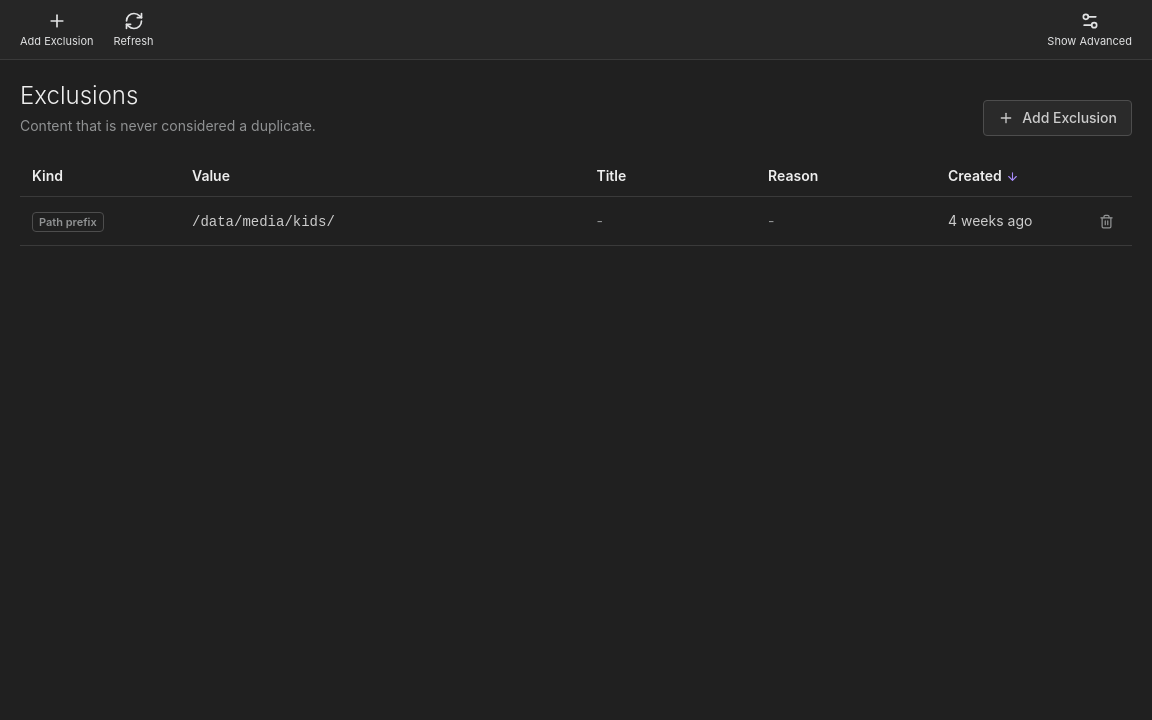
Scenario: <ExclusionsPage> › deletes an exclusion after confirmation
Step 1. Click the button named "Delete exclusion /data/media/kids/" → (1106, 221), box 1092,207 -> 1120,235
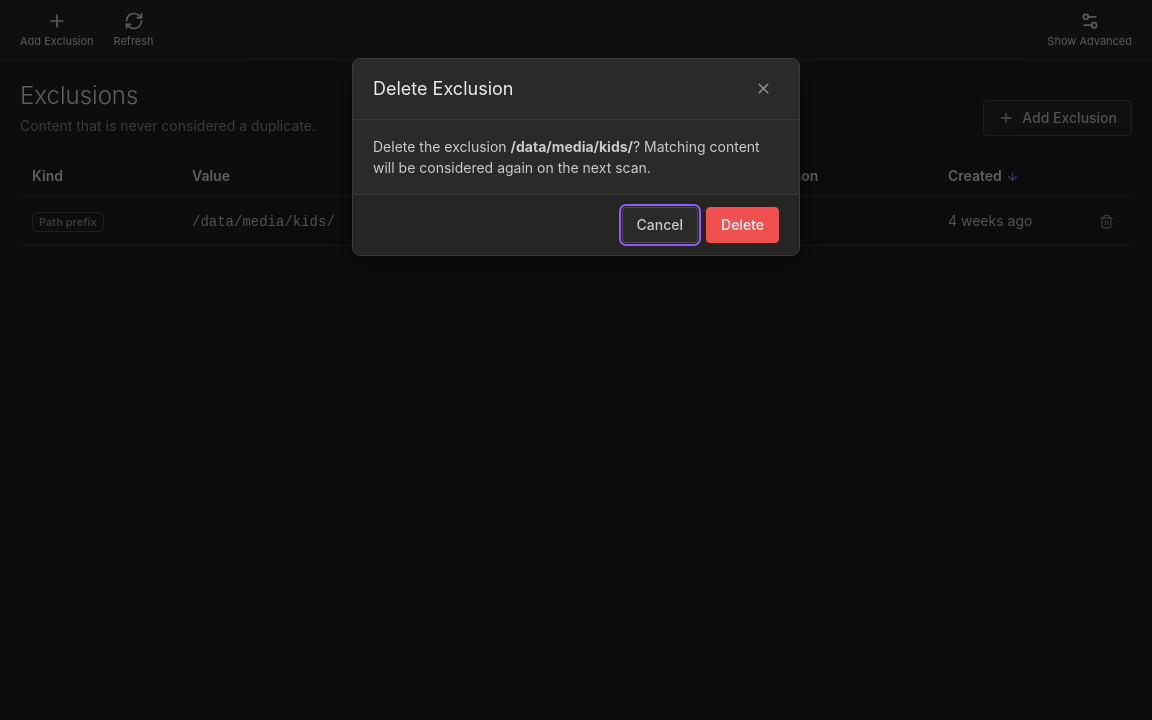
Step 2. Click the button "Cancel" → (660, 225), box 622,207 -> 698,243
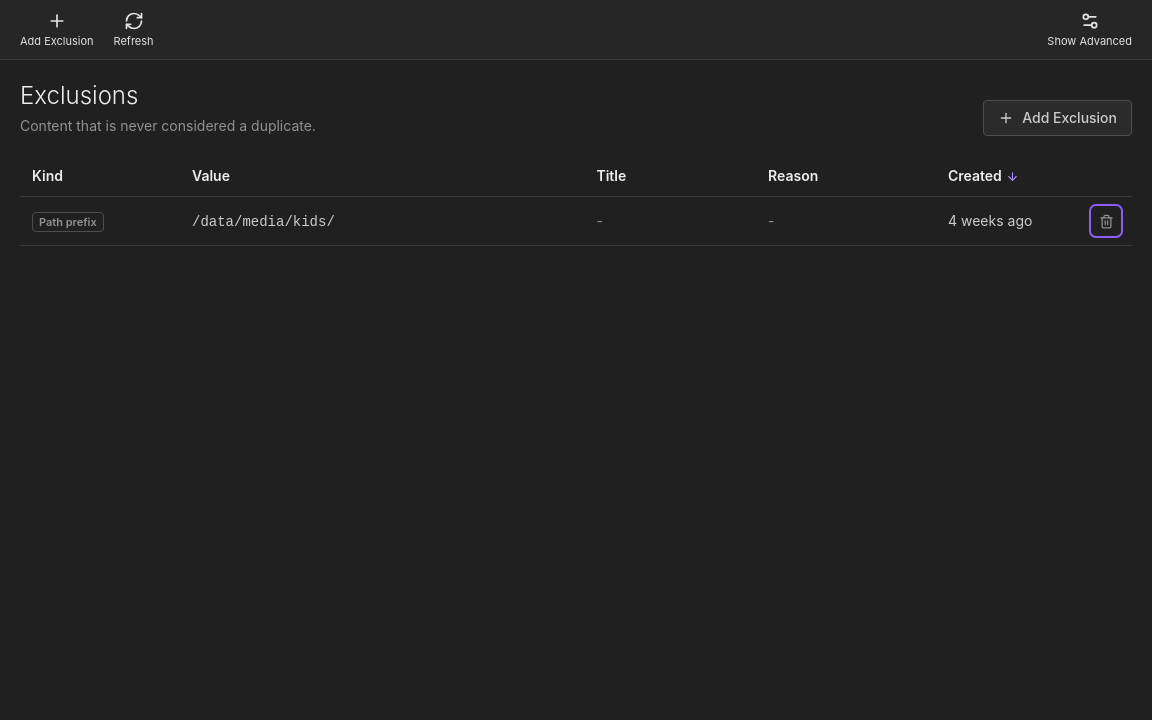
Step 3. Click the button named "Delete exclusion /data/media/kids/" → (1106, 221), box 1092,207 -> 1120,235
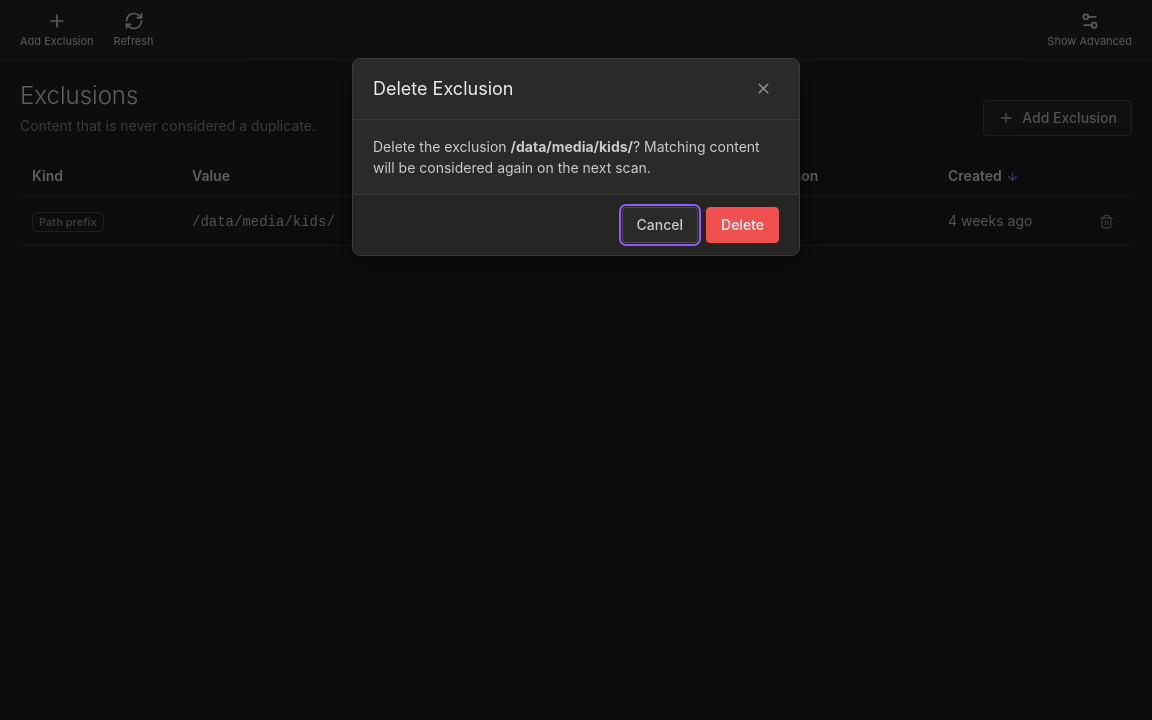
Step 4. Click the button "Delete" → (743, 225), box 706,207 -> 779,243
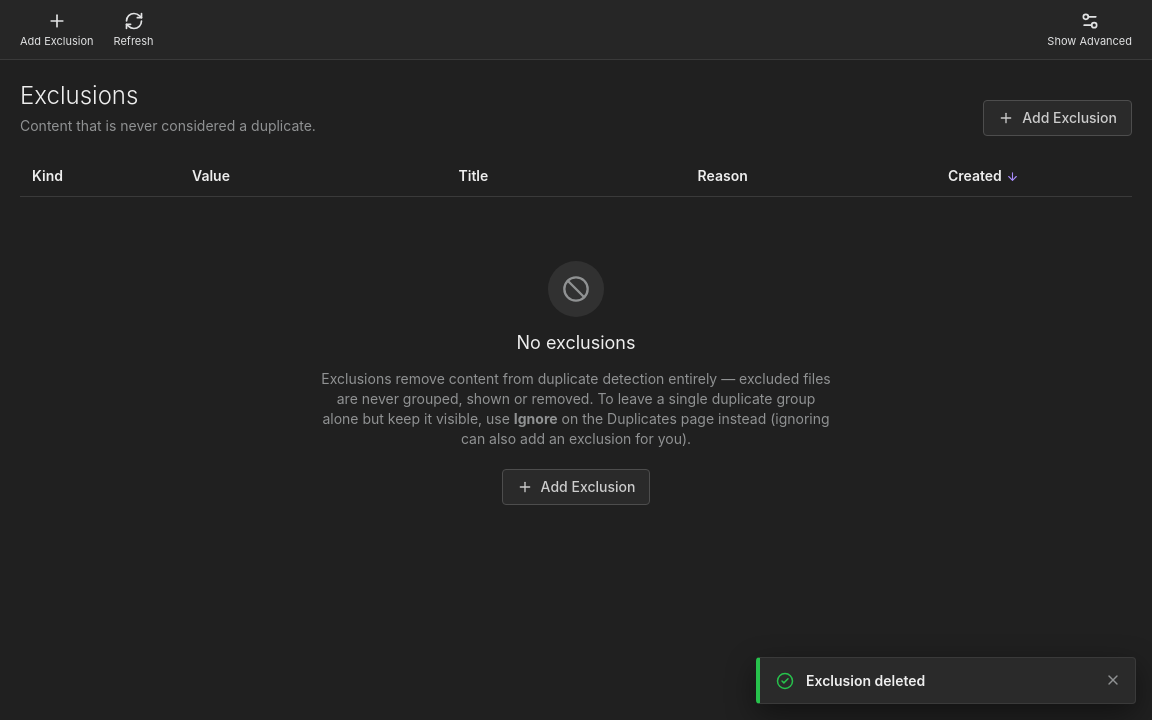
Check: the text "No exclusions" is shown, box 516,329 -> 636,357
